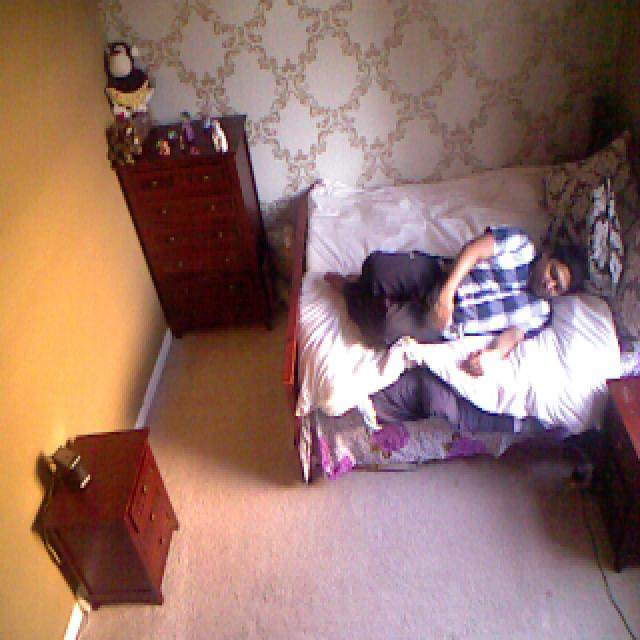lying: (327, 225, 582, 372)
